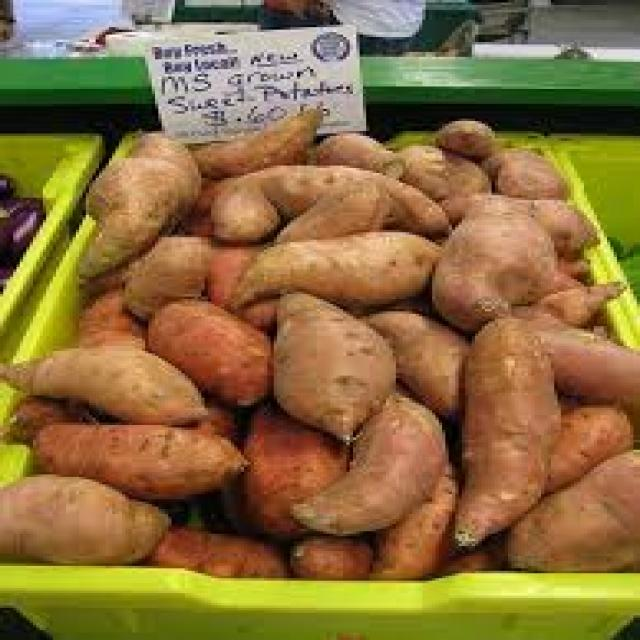organic waste: (442, 307, 554, 546), (284, 388, 445, 534), (432, 188, 587, 324), (267, 284, 396, 445), (501, 445, 637, 568), (29, 415, 250, 489), (224, 396, 343, 532), (0, 469, 165, 566), (76, 153, 201, 279), (0, 343, 198, 422), (231, 232, 432, 309), (254, 161, 455, 237), (142, 292, 264, 400), (369, 457, 462, 583), (429, 192, 600, 255), (360, 306, 465, 408), (541, 390, 630, 490), (188, 106, 317, 170), (264, 173, 386, 235), (122, 235, 214, 316), (152, 522, 290, 574), (204, 166, 284, 240), (389, 141, 485, 200), (76, 284, 145, 351), (3, 390, 92, 440), (310, 128, 406, 173), (482, 144, 564, 196), (290, 529, 373, 576), (534, 274, 620, 319), (208, 240, 260, 309), (432, 111, 498, 158), (122, 129, 191, 168), (0, 195, 40, 262), (439, 536, 495, 576), (228, 294, 280, 331), (89, 257, 135, 294), (192, 400, 234, 440), (551, 250, 587, 276), (0, 173, 13, 195), (0, 267, 7, 279)
